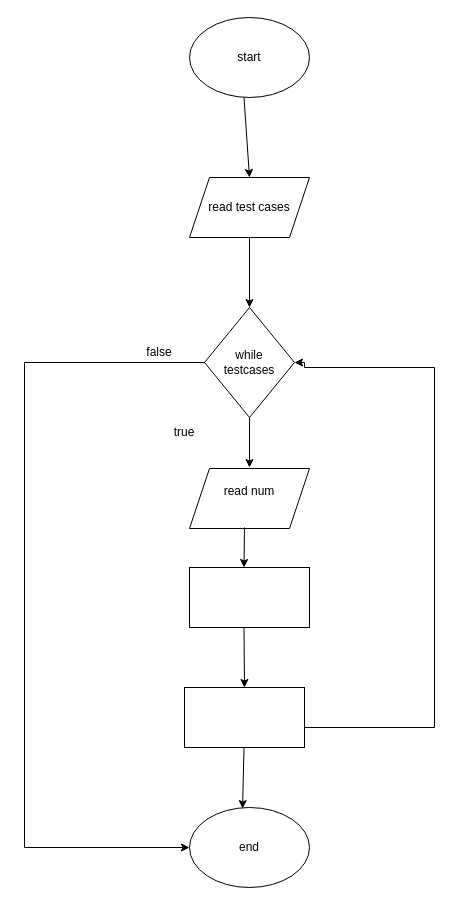
The diagram is 460 pixels wide and 905 high, and some of its shapes have lost their labels. Each missing label, with the centre of its shape:
sum = sum + sqrt(num): (x=249, y=597)
test case--: (x=244, y=717)
